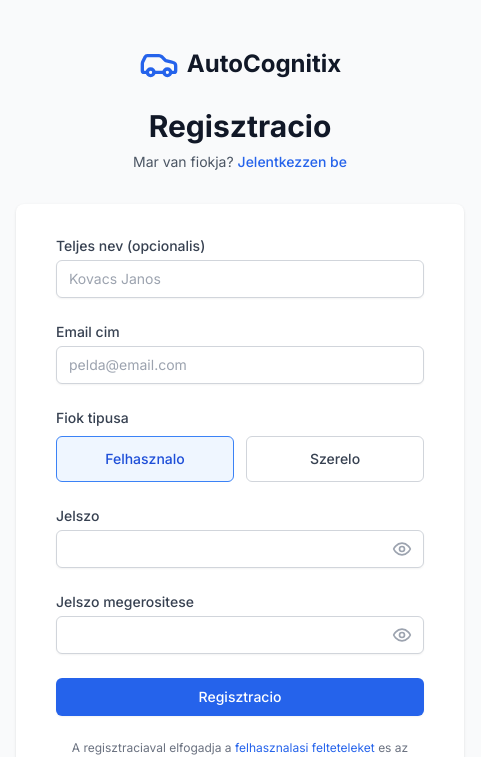
RegisterPage › should show error when password does not meet requirements
Type "test@example.com" into the field labelled "Email cim". click: (240, 365)
box: [56, 346, 424, 384]
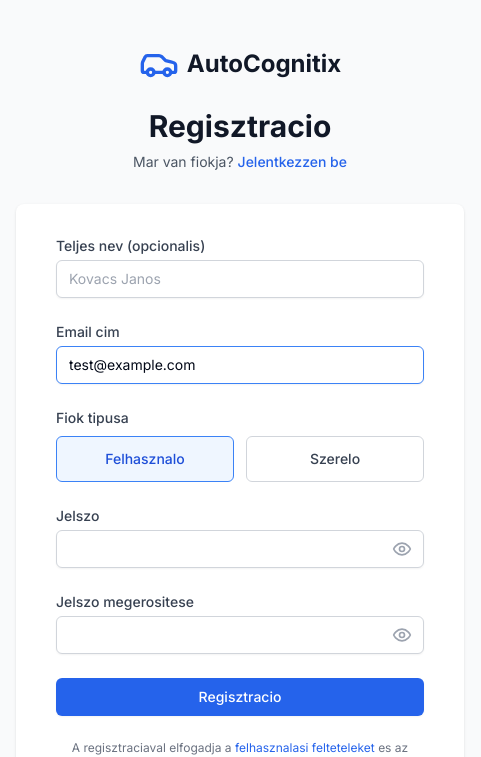
Type "weak" into the password field labelled "Jelszo". click: (240, 549)
box: [56, 530, 424, 568]
(page scrolled)
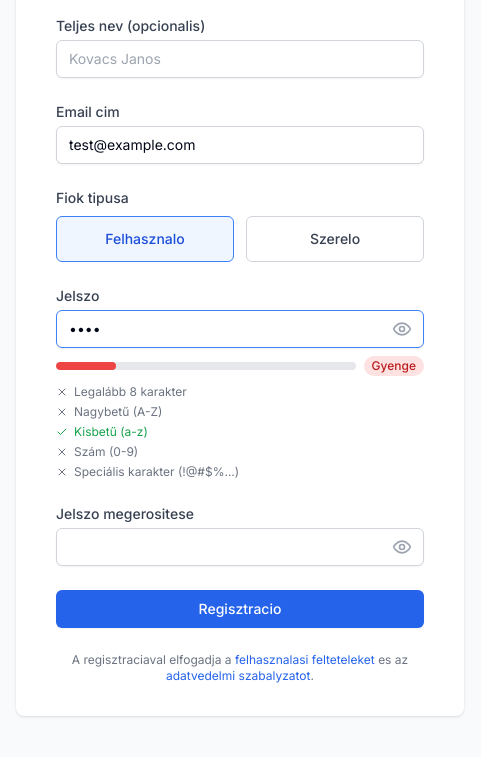
Type "weak" into the password field labelled "Jelszo megerositese". click: (240, 547)
box: [56, 528, 424, 566]
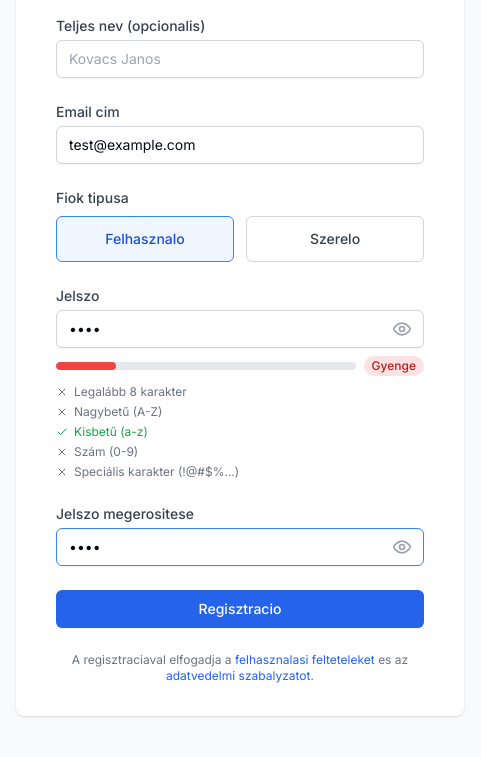
// Use fireEvent.submit to bypass browser-level required validation
Submit the form named "regisztracio"
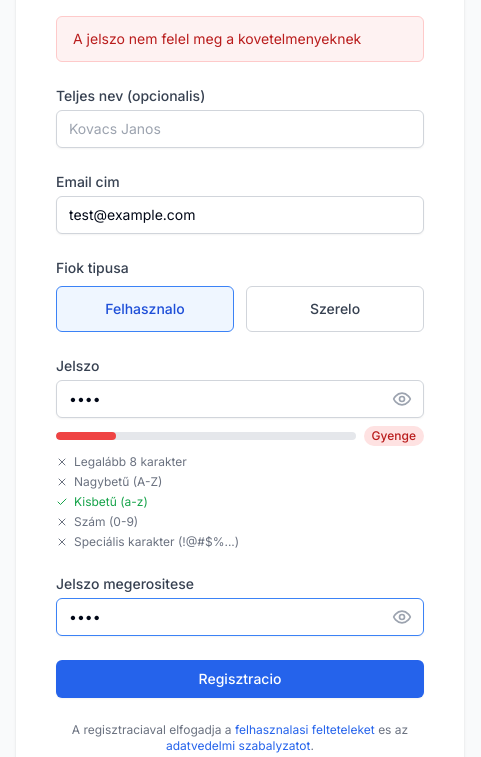
Expected: the text "A jelszo nem felel meg a kovetelmenyeknek" is shown, [56, 16, 424, 62]
